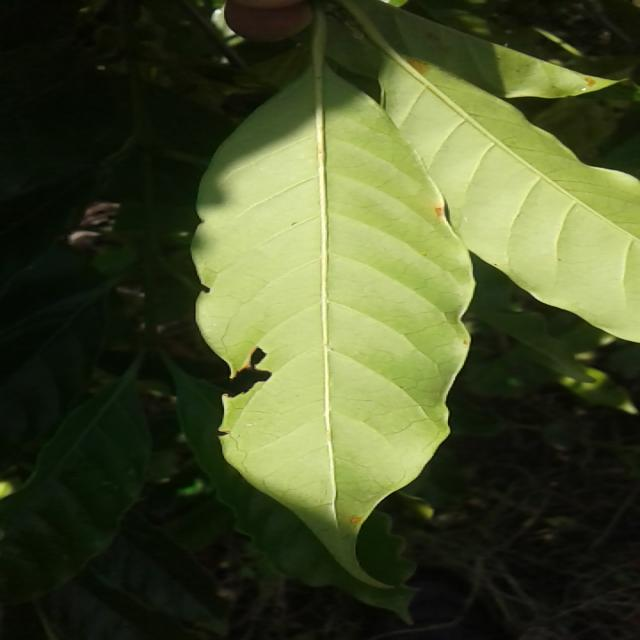Enfermedad-Roya: (191, 70, 474, 552)
